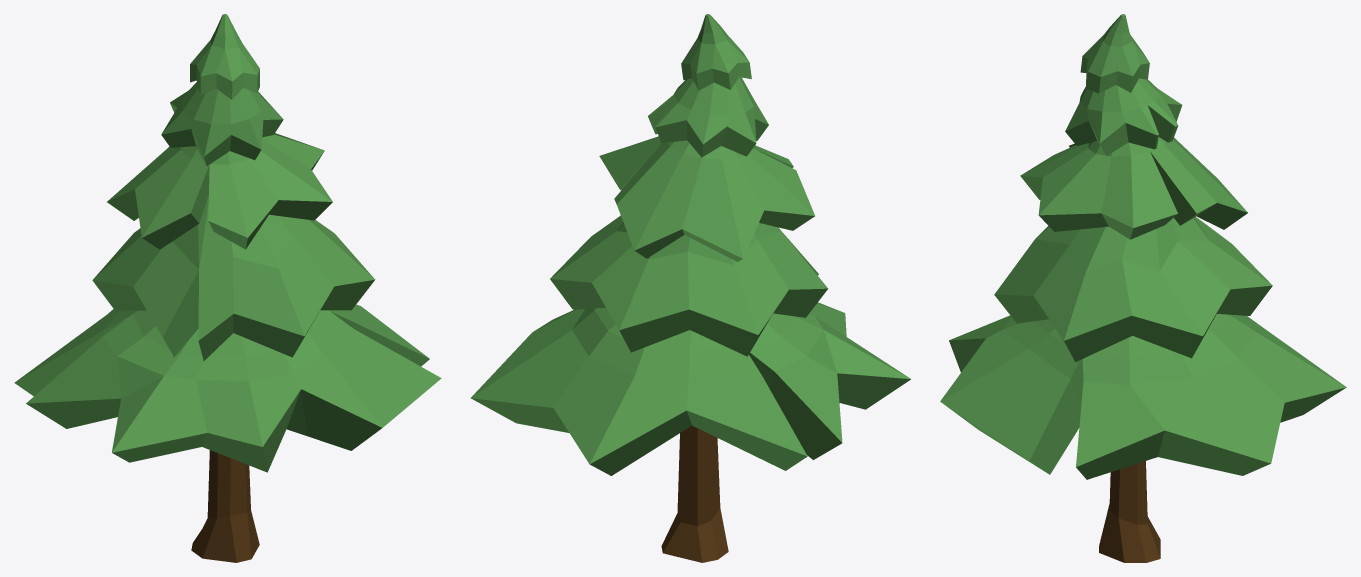
File: Env_Tree_02_3.fbx
3 renders of one model, left to right at view 1: azimuth 30°, elevation 25°; view 2: azimuth 150°, elevation 25°; view 3: azimuth 270°, elevation 25°, orthographic.
Parts seen in each view (by area): view 1: Env_Tree02_3; view 2: Env_Tree02_3; view 3: Env_Tree02_3.
Part boxes in pixels (x1,y1,x2,y2): Env_Tree02_3: (14, 14, 441, 562); Env_Tree02_3: (470, 14, 910, 562); Env_Tree02_3: (940, 14, 1346, 562).
Size of what is drawn, in the model's own units: 344 by 353 by 508.
